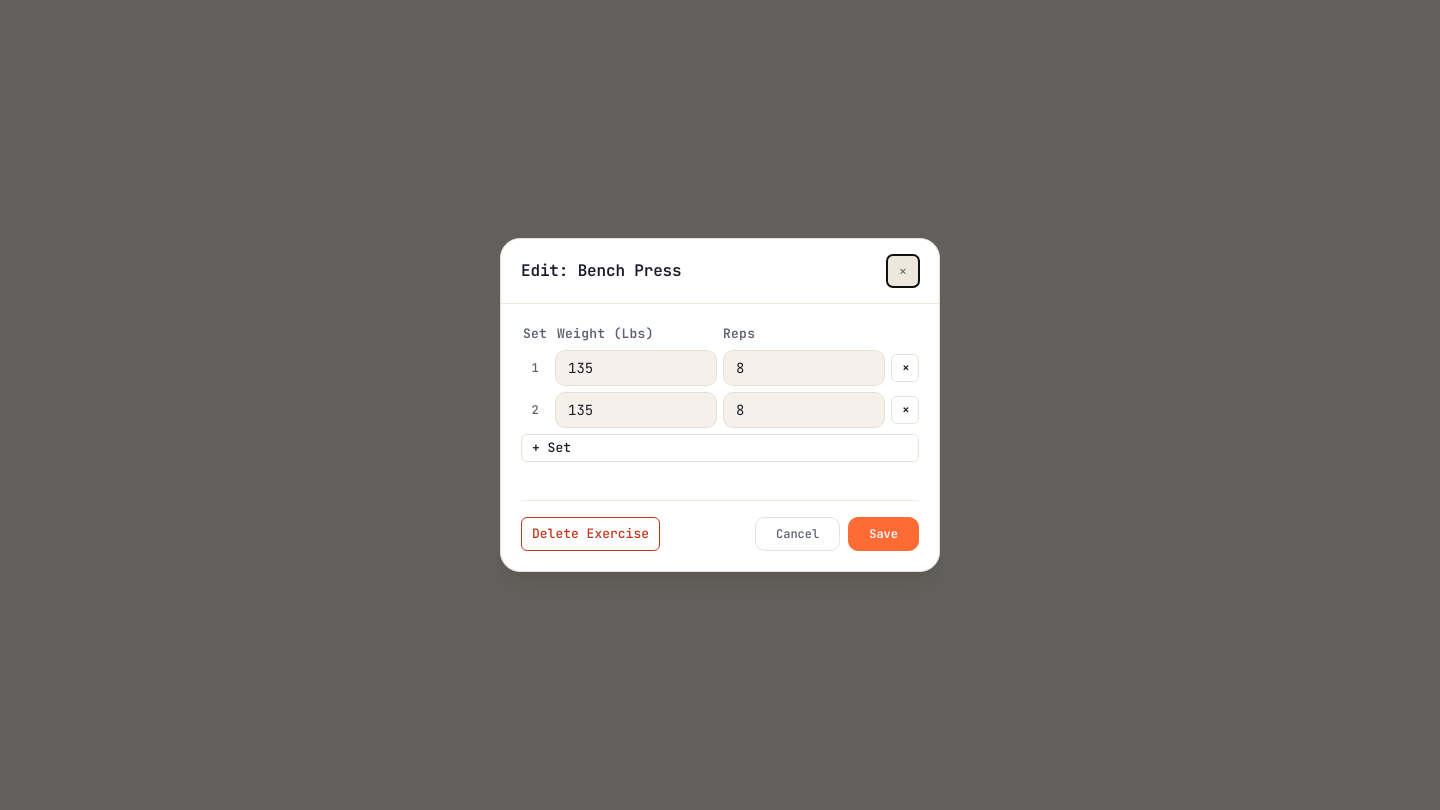
Test: EditExerciseModal › [+ set] button adds a new set row
Expected: the number of buttons "×" is 2, [891, 354, 919, 382]; [891, 396, 919, 424]
Click the button "+ Set" at (552, 447), box [521, 434, 919, 462]
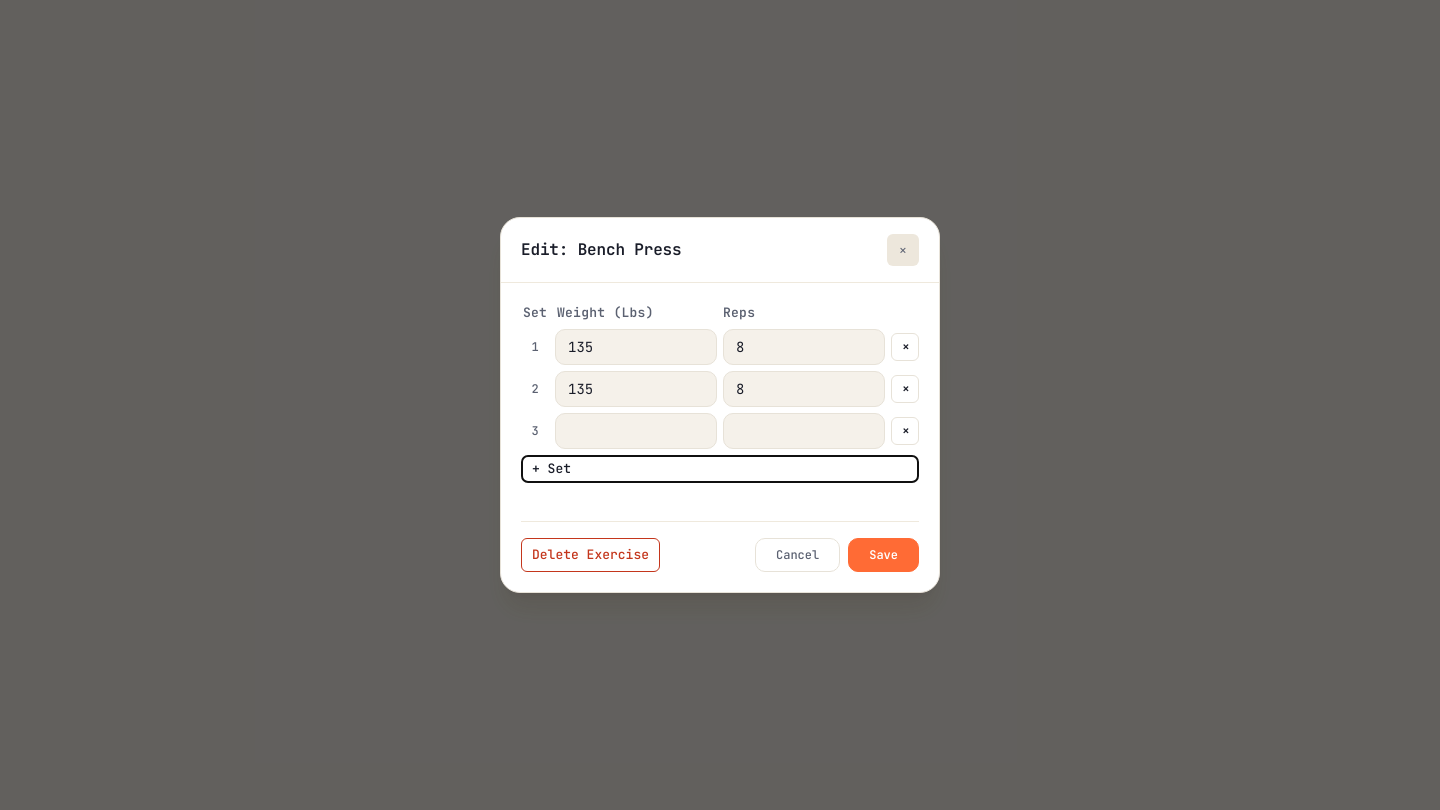
Result: the number of buttons "×" is 3 at [891, 333, 919, 361]; [891, 375, 919, 403]; [891, 417, 919, 445]
